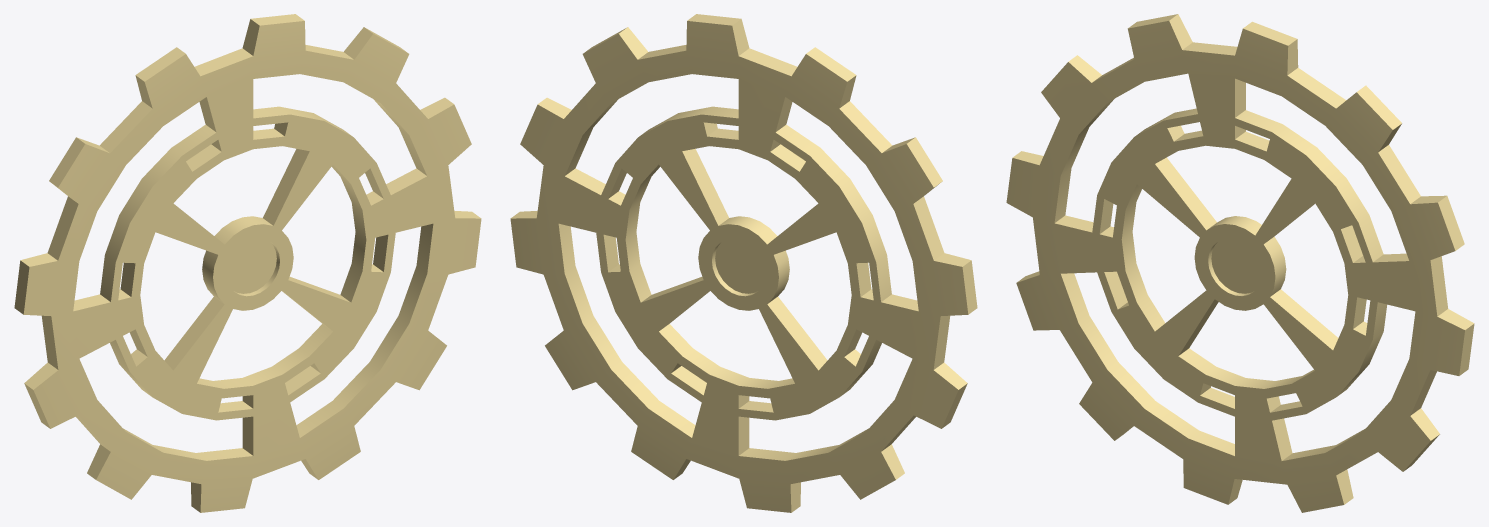
File: haguruma_b3.fbx
3 views of the same model, side by side, from view 1: azimuth 30°, elevation 25°; view 2: azimuth 150°, elevation 25°; view 3: azimuth 330°, elevation 25° (orthographic).
Visible parts, largest first — view 1: Cylinder001; view 2: Cylinder001; view 3: Cylinder001.
Part boxes in pixels (<box>): Cylinder001: <box>14,14,481,512</box>; Cylinder001: <box>510,14,977,512</box>; Cylinder001: <box>1006,14,1474,512</box>.
Size of the model in its own units: 336 by 336 by 13.76.
